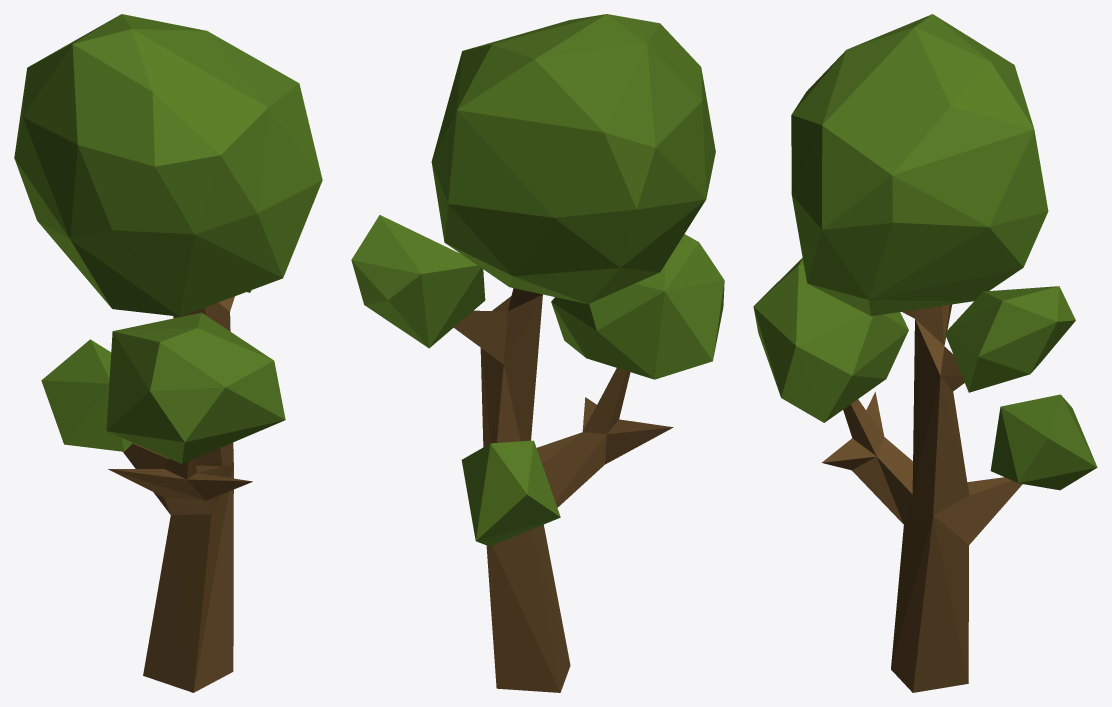
File: temp-decid.moderate-op0.4.gltf
3 renders of one model, left to right at view 1: azimuth 30°, elevation 25°; view 2: azimuth 150°, elevation 25°; view 3: azimuth 270°, elevation 25°, orthographic. The views are drawn at different scales.
Parts seen in each view (by area): view 1: Tree1_2; view 2: Tree1_2; view 3: Tree1_2.
Part boxes in pixels (box(x1,y1,x2,y2)): Tree1_2: box(14, 14, 322, 692); Tree1_2: box(351, 14, 724, 692); Tree1_2: box(753, 14, 1097, 692).
Size of the model in its own units: 2.58 by 5.94 by 2.99.
Materials: 1 (1 with a texture image).
